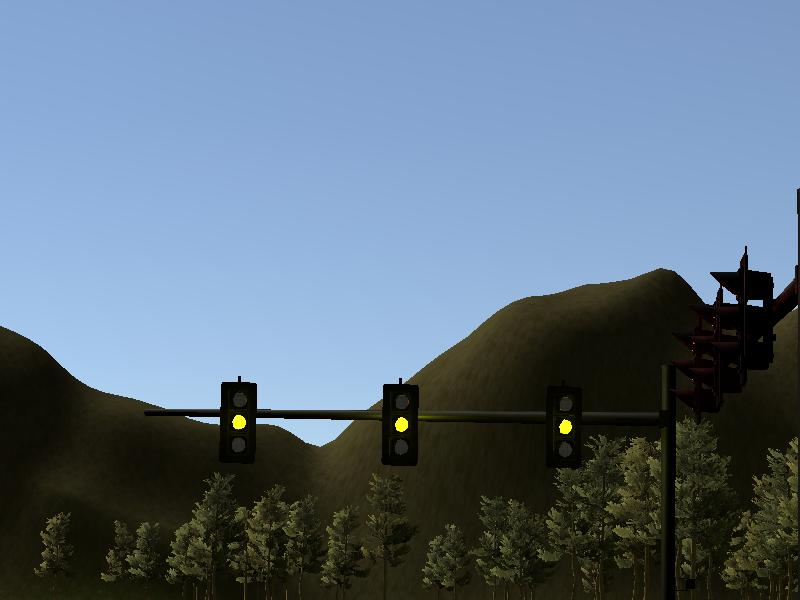yellow: (380, 382, 420, 467), (545, 381, 582, 469), (219, 380, 256, 463)
